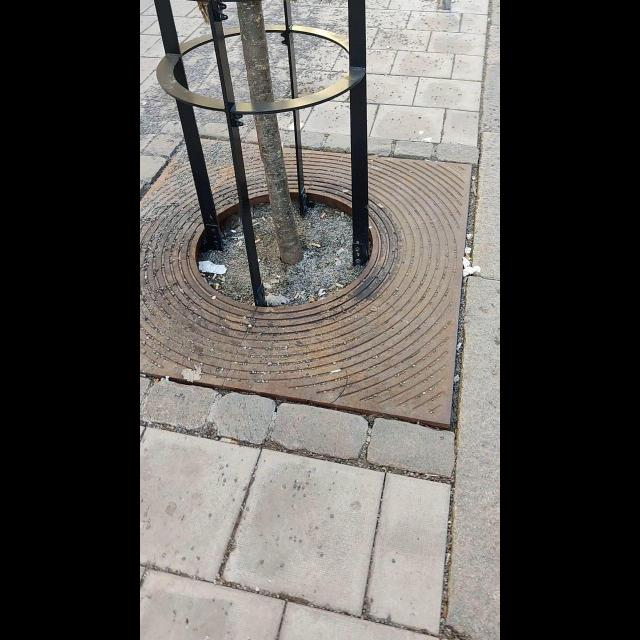cigarette: (336, 248, 345, 255), (270, 278, 280, 284), (334, 282, 344, 288), (311, 242, 319, 247), (235, 240, 241, 246), (467, 253, 471, 262), (340, 211, 345, 218), (214, 283, 219, 290), (294, 294, 299, 300), (200, 273, 207, 277), (212, 273, 216, 280), (320, 213, 324, 219), (262, 215, 266, 221), (256, 239, 262, 243)
